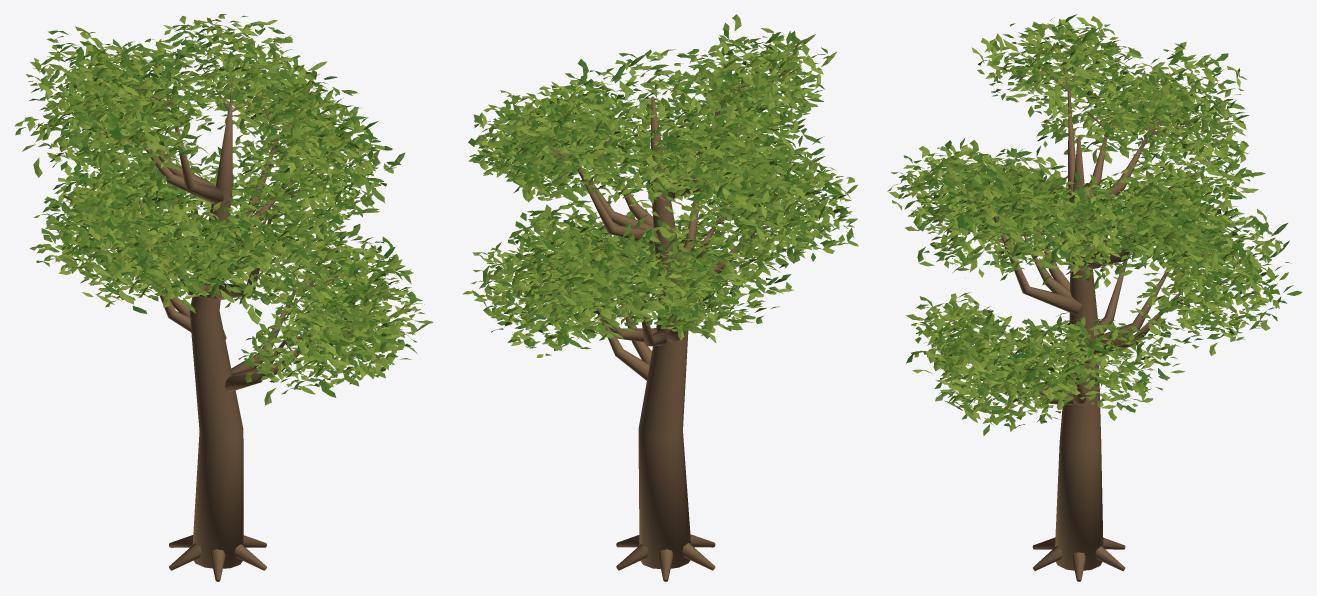
The model's file is tree-1-lod.glb.
3 views of the same model, side by side, from view 1: azimuth 30°, elevation 25°; view 2: azimuth 150°, elevation 25°; view 3: azimuth 270°, elevation 25° (orthographic). The views are drawn at different scales.
Parts seen in each view (by area): view 1: tree-1 export; view 2: tree-1 export; view 3: tree-1 export.
Part boxes in pixels (<box>): tree-1 export: <box>14,14,433,581</box>; tree-1 export: <box>462,14,858,581</box>; tree-1 export: <box>887,14,1302,581</box>.
Size of the model in its own units: 7.81 by 11.75 by 8.79.
